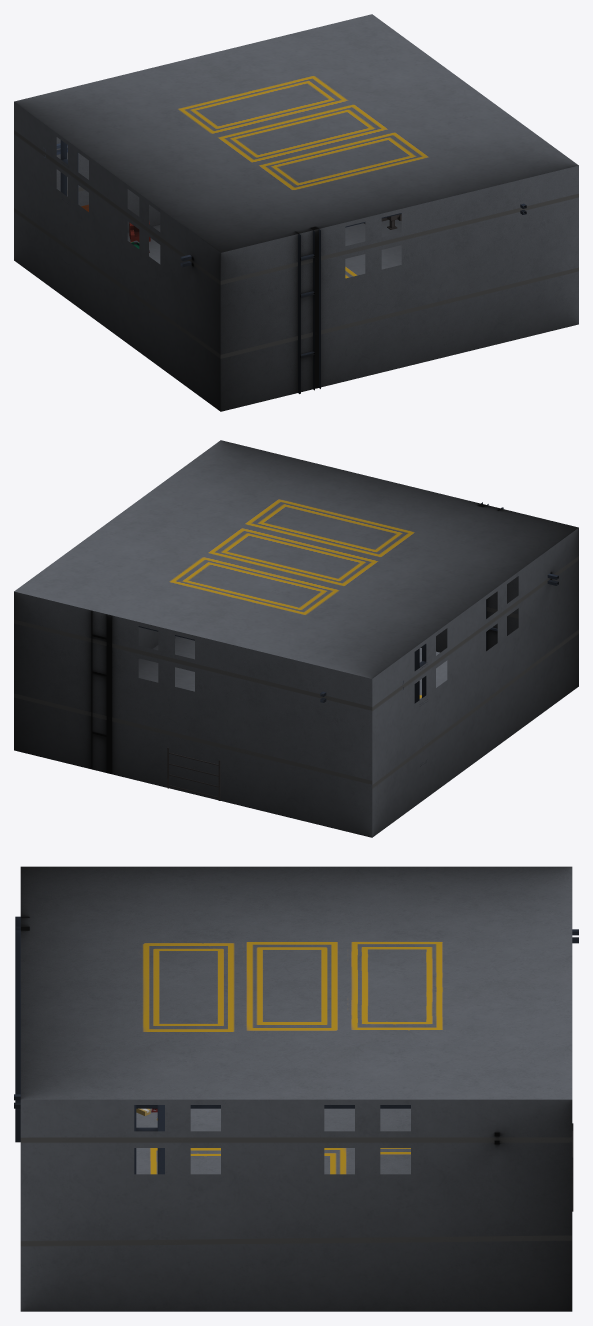
The model's file is Storage.fbx.
The picture shows the model from 3 angles, top to bottom: view 1: azimuth 30°, elevation 25°; view 2: azimuth 150°, elevation 25°; view 3: azimuth 270°, elevation 25°; orthographic projection. The views are drawn at different scales.
Parts seen in each view (by area): view 1: Map, Steel_Ladder__1_; view 2: Map, Shelf; view 3: Map, Steel_Ladder__1_, Steel_Ladder__2_.
Boxes of the visible parts, x1,y1,x2,y2 form: Map: (14,14,578,411); Steel_Ladder__1_: (298,229,320,393); Map: (14,440,578,837); Shelf: (167,747,220,800); Map: (20,866,572,1311); Steel_Ladder__1_: (15,916,20,1142); Steel_Ladder__2_: (134,1105,164,1174).
Size of the model in its own units: 3786 by 1566 by 3784.
